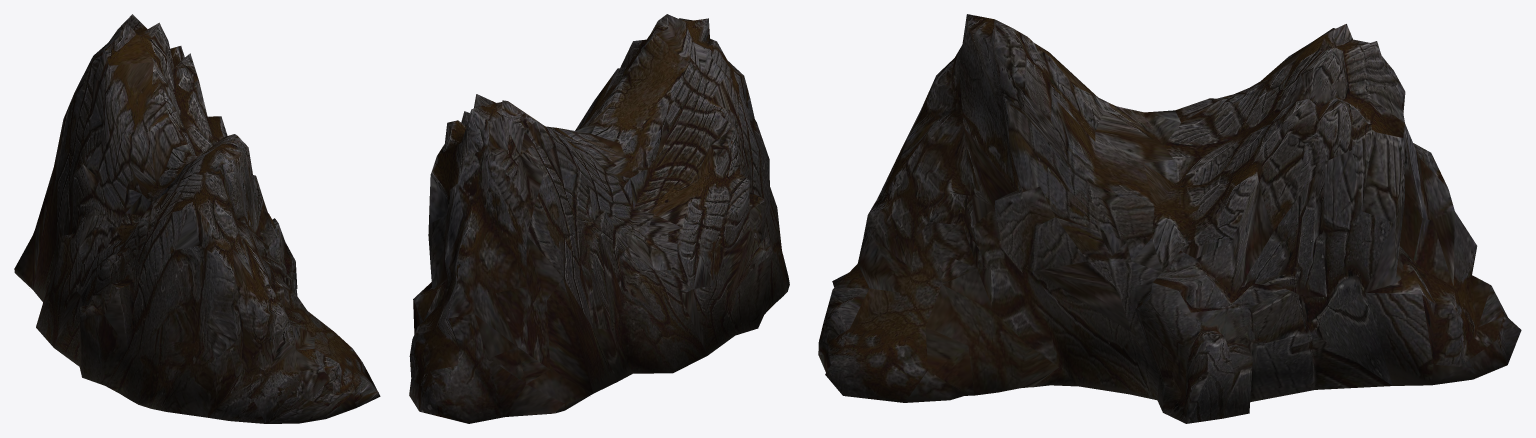
File: Rock_01_Split_Peaks_LOD2.fbx
3 views of the same model, side by side, from view 1: azimuth 30°, elevation 25°; view 2: azimuth 150°, elevation 25°; view 3: azimuth 270°, elevation 25° (orthographic). The views are drawn at different scales.
Visible parts, largest first — view 1: Rock_01_Split_Peaks_LOD2; view 2: Rock_01_Split_Peaks_LOD2; view 3: Rock_01_Split_Peaks_LOD2.
Boxes of the visible parts, x1,y1,x2,y2 form: Rock_01_Split_Peaks_LOD2: [14, 14, 380, 423]; Rock_01_Split_Peaks_LOD2: [409, 14, 789, 423]; Rock_01_Split_Peaks_LOD2: [818, 14, 1521, 423].
Size of the model in its own units: 61.42 by 56.5 by 109.
